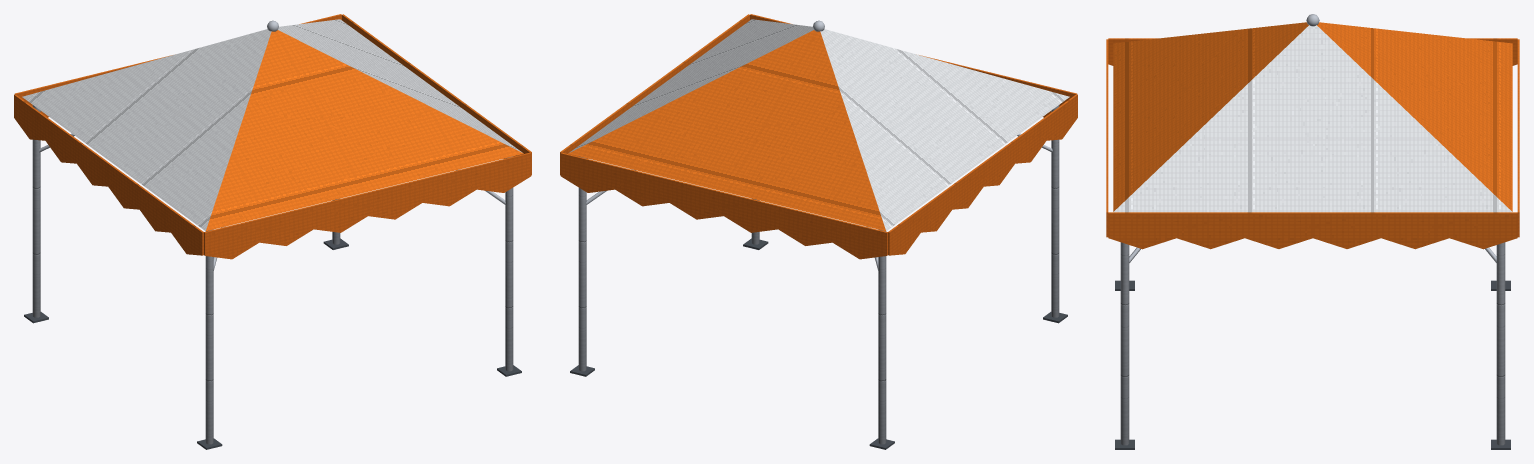
Rendered from gazebo.glb.
3 views of the same model, side by side, from view 1: azimuth 30°, elevation 25°; view 2: azimuth 150°, elevation 25°; view 3: azimuth 270°, elevation 25° (orthographic). The views are drawn at different scales.
Visible parts, largest first — view 1: gazebo, gazebo_metal; view 2: gazebo, gazebo_metal; view 3: gazebo, gazebo_metal.
Part boxes in pixels (bbox=[...]): gazebo: bbox=[14, 14, 531, 449]; gazebo_metal: bbox=[32, 105, 513, 444]; gazebo: bbox=[560, 14, 1077, 449]; gazebo_metal: bbox=[578, 105, 1059, 444]; gazebo: bbox=[1106, 14, 1519, 449]; gazebo_metal: bbox=[1120, 242, 1505, 445].
Bounding box in the file's own units: 3.74 × 3.51 × 3.74.
Materials: 3 (2 with a texture image).
